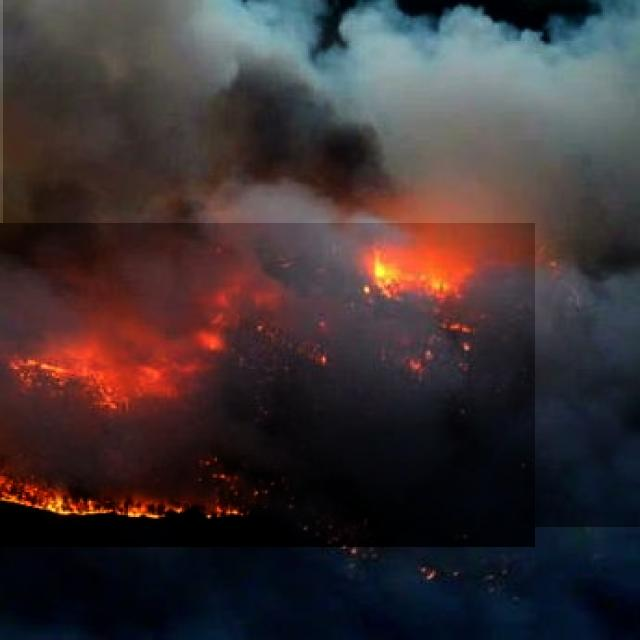Fire: (0, 223, 535, 547)
Smoke: (3, 0, 640, 527)
